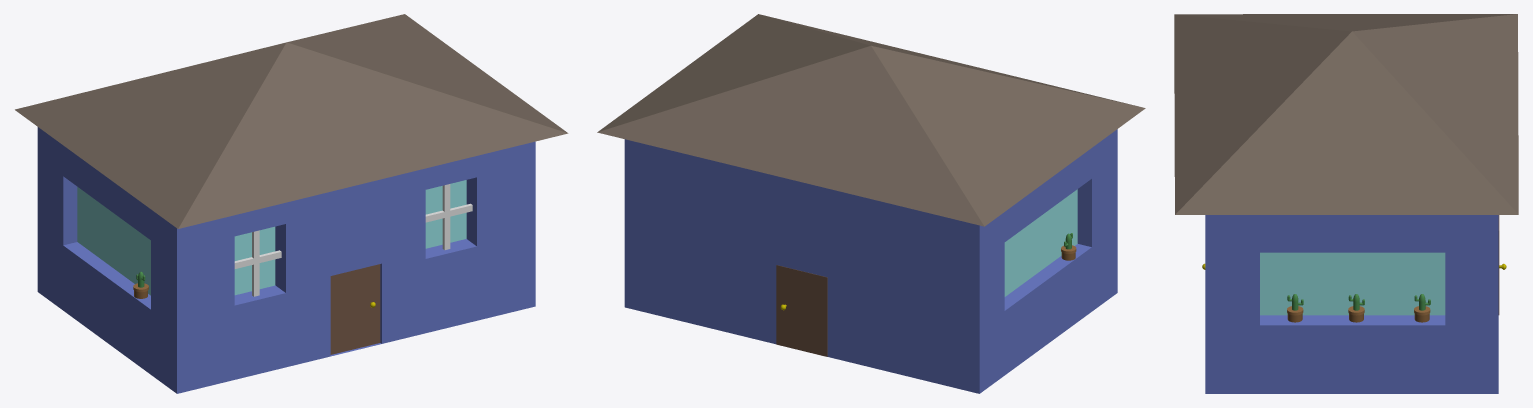
The model's file is House2.fbx.
3 views of the same model, side by side, from view 1: azimuth 30°, elevation 25°; view 2: azimuth 150°, elevation 25°; view 3: azimuth 270°, elevation 25° (orthographic). The views are drawn at different scales.
Parts seen in each view (by area): view 1: pCube12, pCone1, pCube6, pCube19, pCube14, pCube13, pCube16, pCube15; view 2: pCube12, pCone1, pCube21, pCube19; view 3: pCone1, pCube12, pCube20, pasted__pasted__polySurface33, pasted__pasted__pasted__polySurface26, pasted__pasted__polySurface26.
Part boxes in pixels (x1,y1,x2,y2): pCube12: (37, 127, 535, 393); pCone1: (15, 14, 568, 228); pCube6: (330, 264, 380, 354); pCube19: (77, 187, 150, 295); pCube14: (425, 180, 466, 248); pCube13: (234, 226, 275, 295); pCube16: (442, 184, 450, 250); pCube15: (252, 230, 259, 296); pCube12: (624, 129, 1117, 393); pCone1: (597, 14, 1145, 226); pCube21: (776, 265, 827, 356); pCube19: (1004, 189, 1077, 296); pCone1: (1174, 14, 1518, 214); pCube12: (1205, 215, 1498, 393); pCube20: (1260, 252, 1445, 315); pasted__pasted__polySurface33: (1414, 294, 1430, 322); pasted__pasted__pasted__polySurface26: (1287, 294, 1303, 322); pasted__pasted__polySurface26: (1348, 294, 1364, 322).
Bounding box in the file's own units: 14.14 × 8.87 × 10.25.
